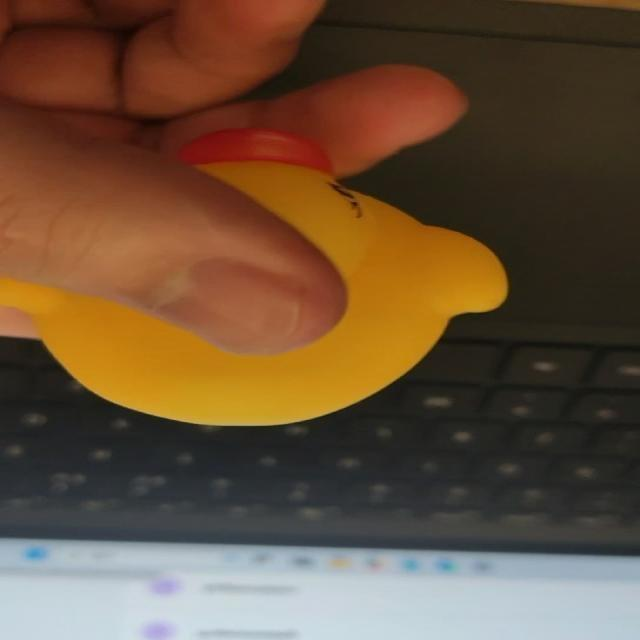rubber-duck: (0, 128, 505, 423)
